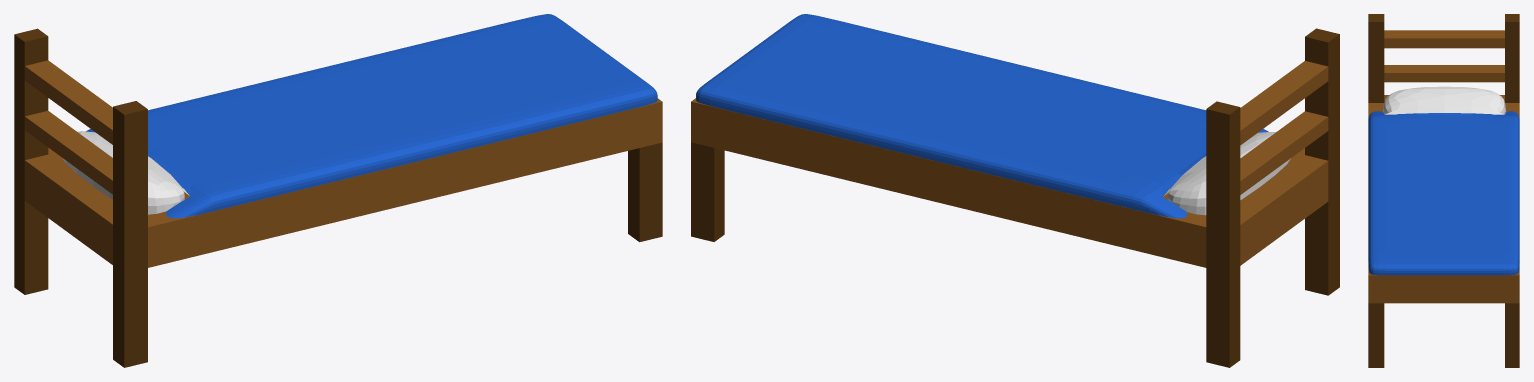
Rendered from lit.fbx.
3 renders of one model, left to right at view 1: azimuth 30°, elevation 25°; view 2: azimuth 150°, elevation 25°; view 3: azimuth 270°, elevation 25°, orthographic. The views are drawn at different scales.
Parts seen in each view (by area): view 1: Cube.001; view 2: Cube.001; view 3: Cube.001.
Boxes of the visible parts, left/top/right/bottom form: Cube.001: left=14, top=14, right=662, bottom=367; Cube.001: left=691, top=14, right=1339, bottom=367; Cube.001: left=1368, top=14, right=1519, bottom=367.
Bounding box in the file's own units: 565 × 254 × 200.
